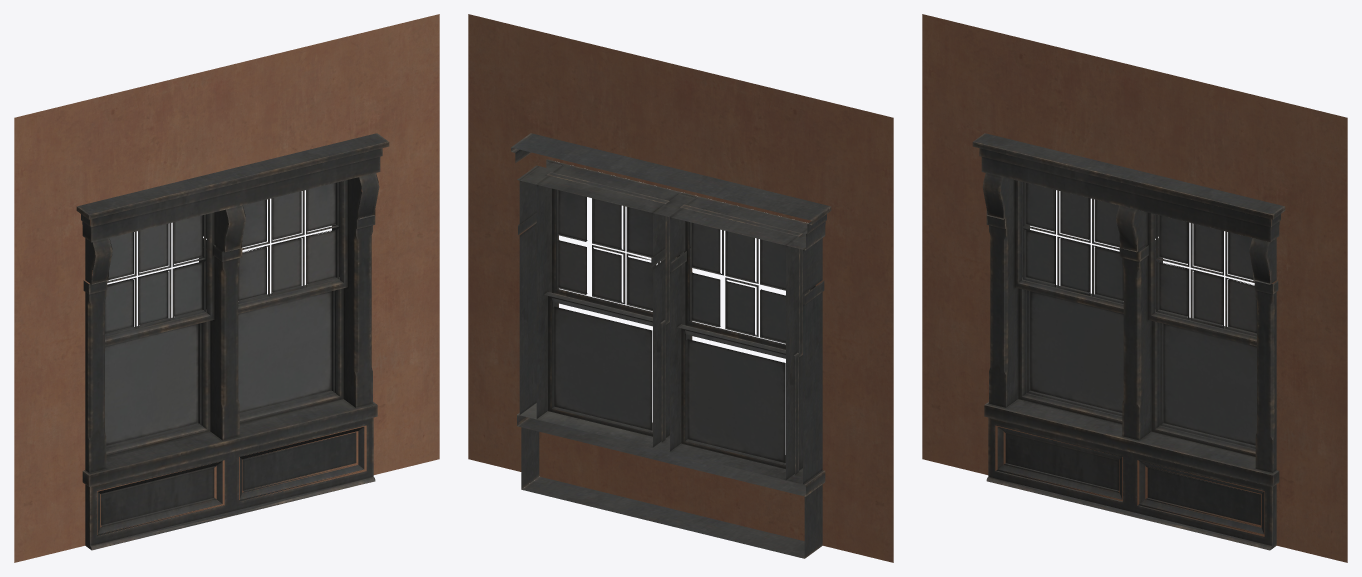
File: bay_window_a.gltf
3 views of the same model, side by side, from view 1: azimuth 30°, elevation 25°; view 2: azimuth 150°, elevation 25°; view 3: azimuth 330°, elevation 25° (orthographic).
Visible parts, largest first — view 1: bay_window_a; view 2: bay_window_a; view 3: bay_window_a.
Boxes of the visible parts, left/top/right/bottom form: bay_window_a: left=14, top=14, right=439, bottom=562; bay_window_a: left=468, top=14, right=893, bottom=562; bay_window_a: left=922, top=14, right=1347, bottom=562.
Bounding box in the file's own units: 3 × 3 × 0.389.
Materials: 3 (3 with a texture image).
